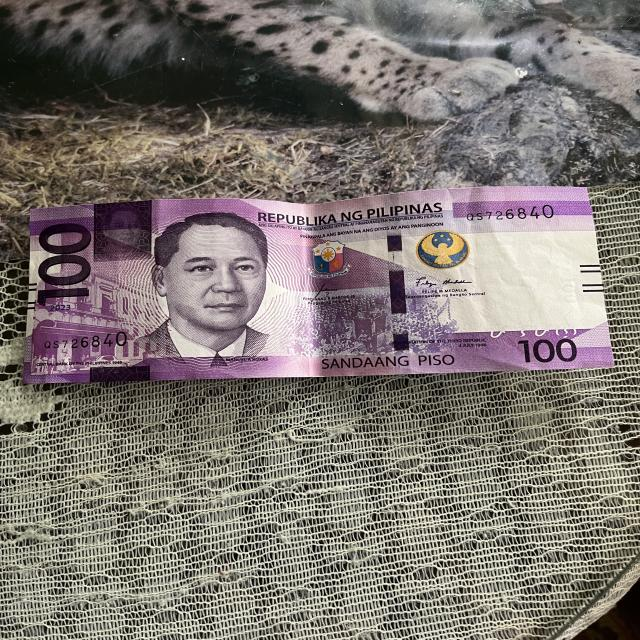concealed_value: (93, 199, 155, 258)
security_thread: (382, 192, 412, 374)
see_through_mark: (475, 319, 585, 341)
serial_number: (29, 331, 140, 354), (465, 206, 566, 227)
value: (32, 214, 99, 307)
